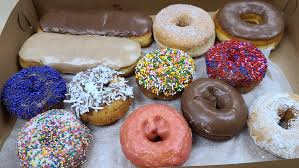Donut: (115, 102, 198, 168), (15, 106, 93, 168), (181, 74, 248, 146), (242, 85, 299, 163), (210, 0, 287, 57), (68, 62, 132, 128), (152, 0, 217, 60), (134, 44, 197, 104), (202, 38, 268, 94), (1, 64, 66, 117)
